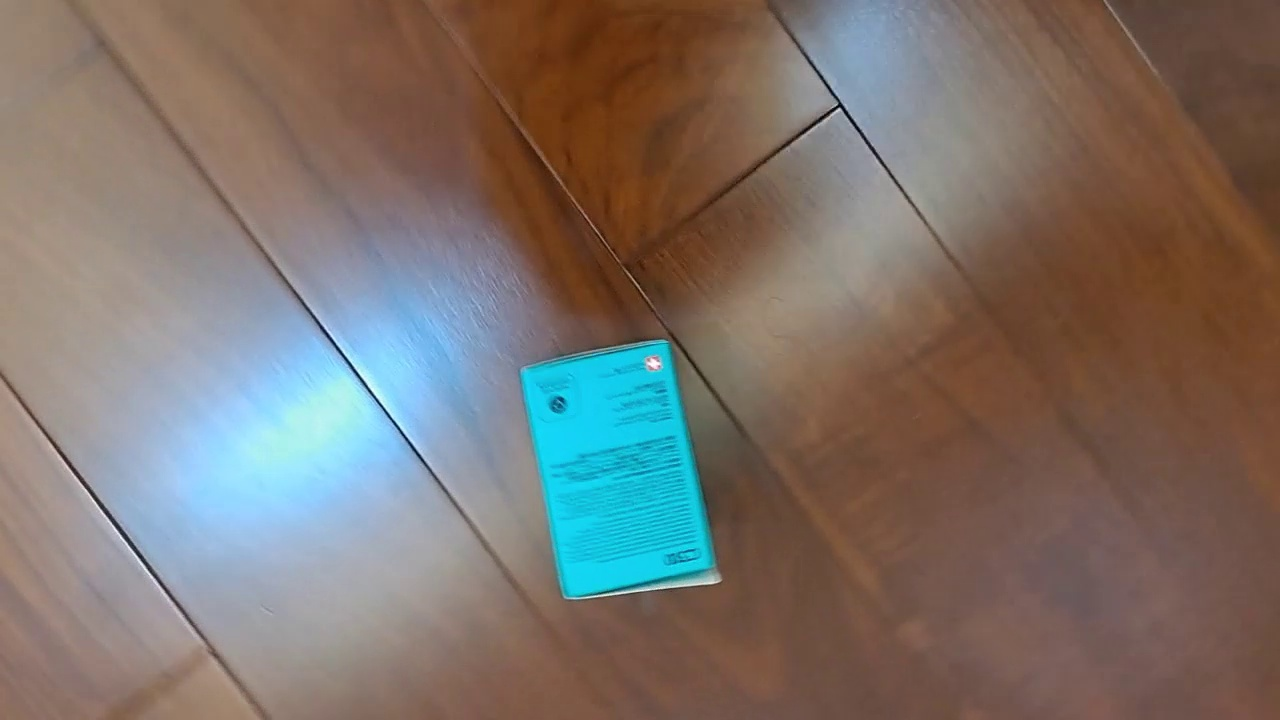webcam: (518, 338, 724, 601)
